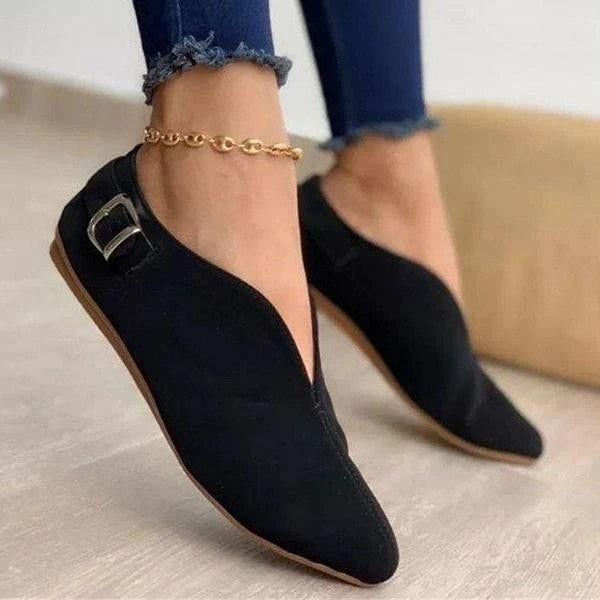gamuza: (57, 142, 544, 584)
